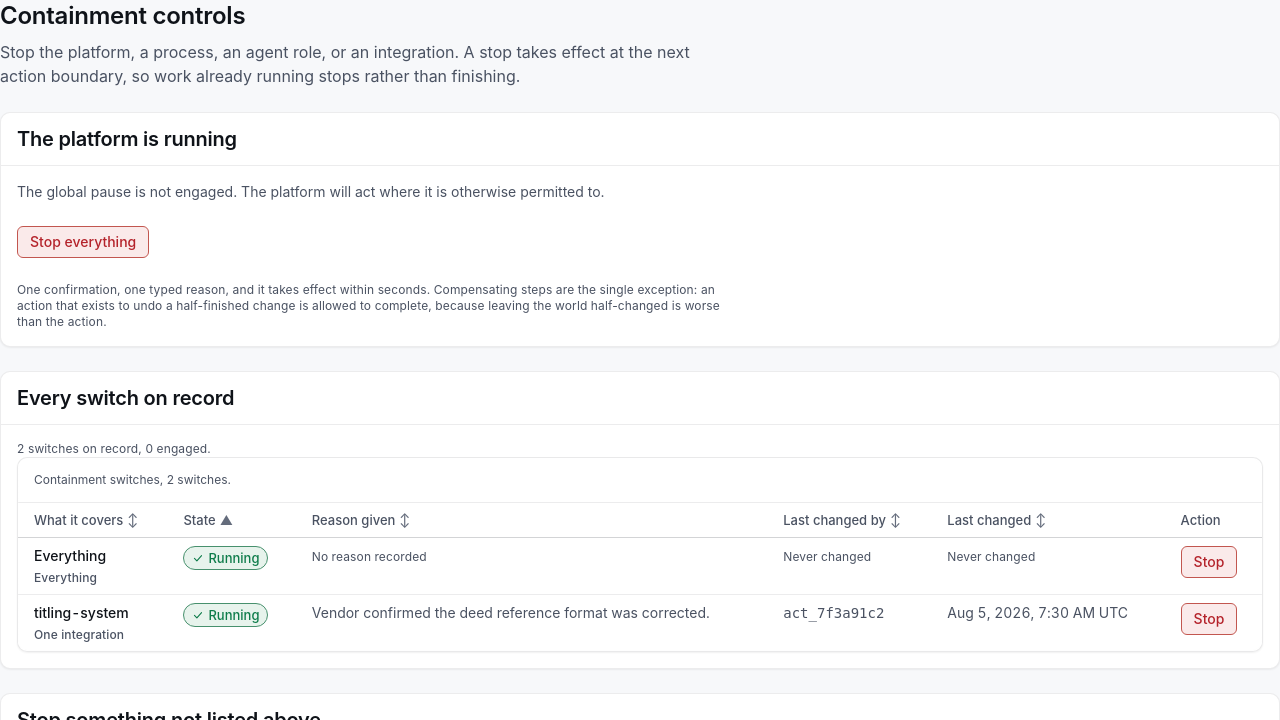
ContainmentControls › requires a typed reason before anything is engaged
What coordinates should you click on to do the following:
click the button "Stop everything"
I would click on:
 (83, 242)
Its box is x1=17 y1=226 x2=149 y2=258.
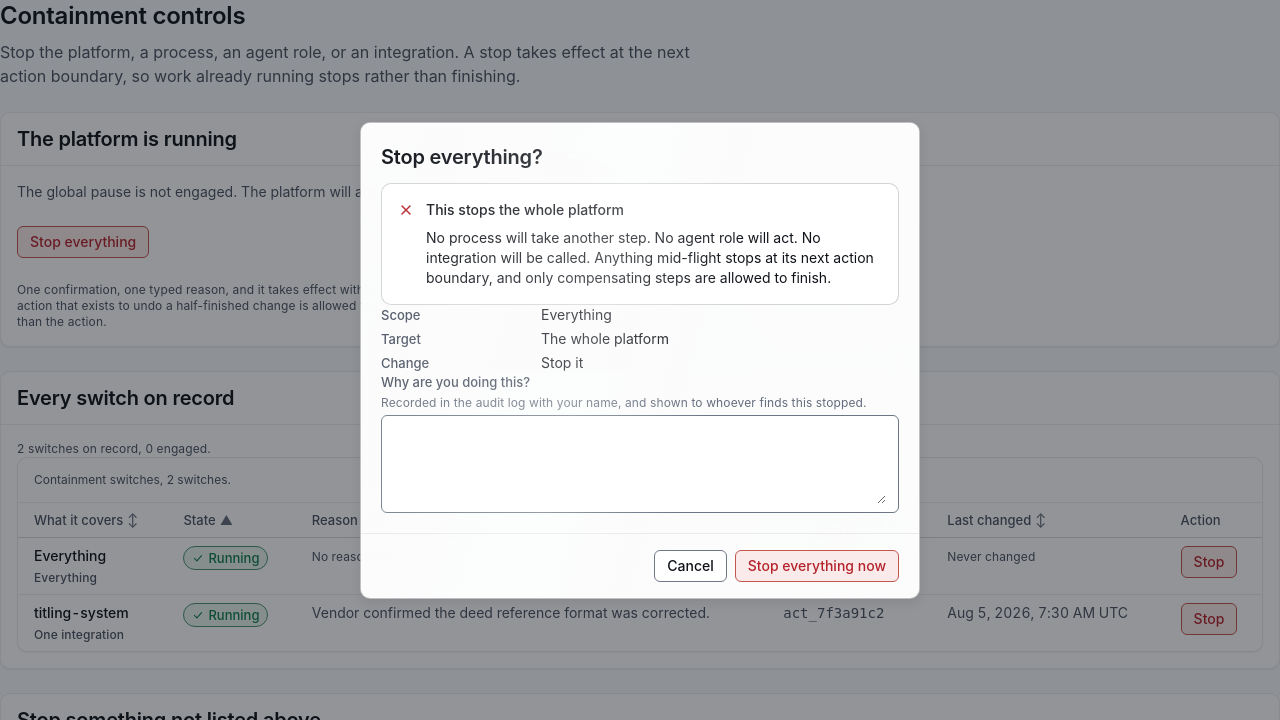
What coordinates should you click on to do the following:
click the button "Stop everything now"
I would click on:
 (817, 566)
Its box is x1=735 y1=550 x2=899 y2=582.
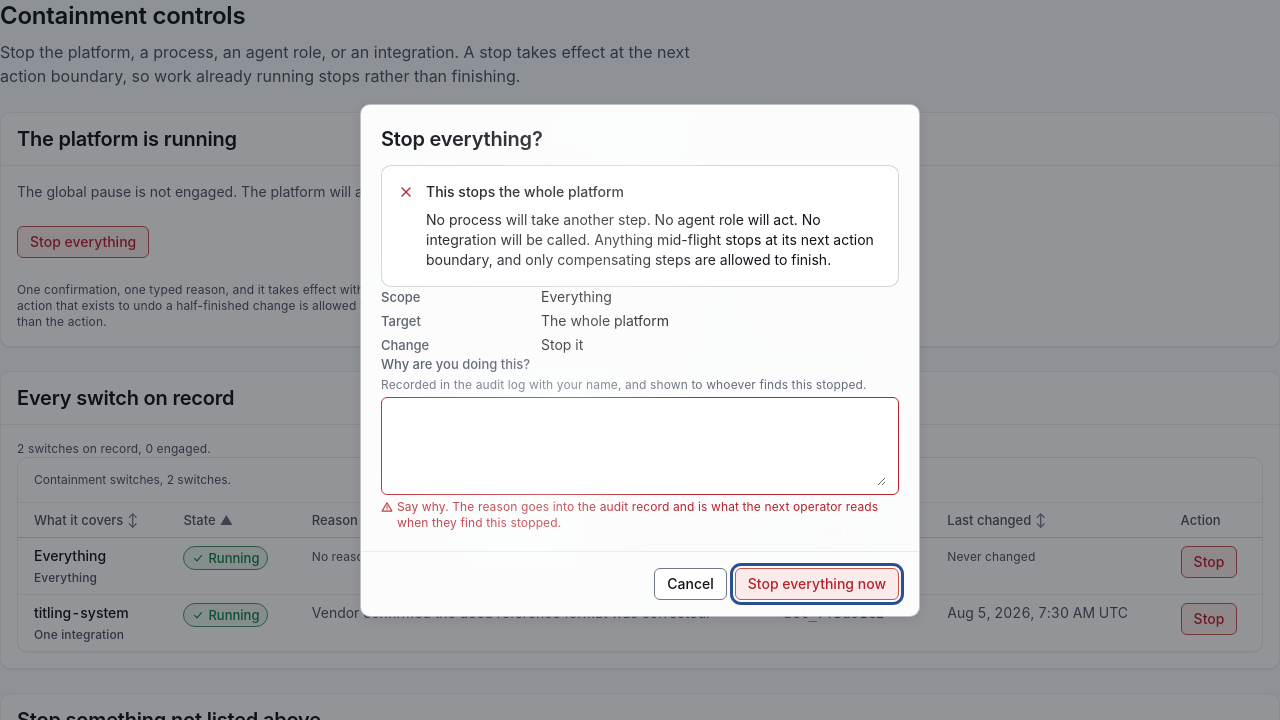
Result: the dialog is shown
Result: the text "Say why." is shown at x1=397 y1=498 x2=878 y2=530
